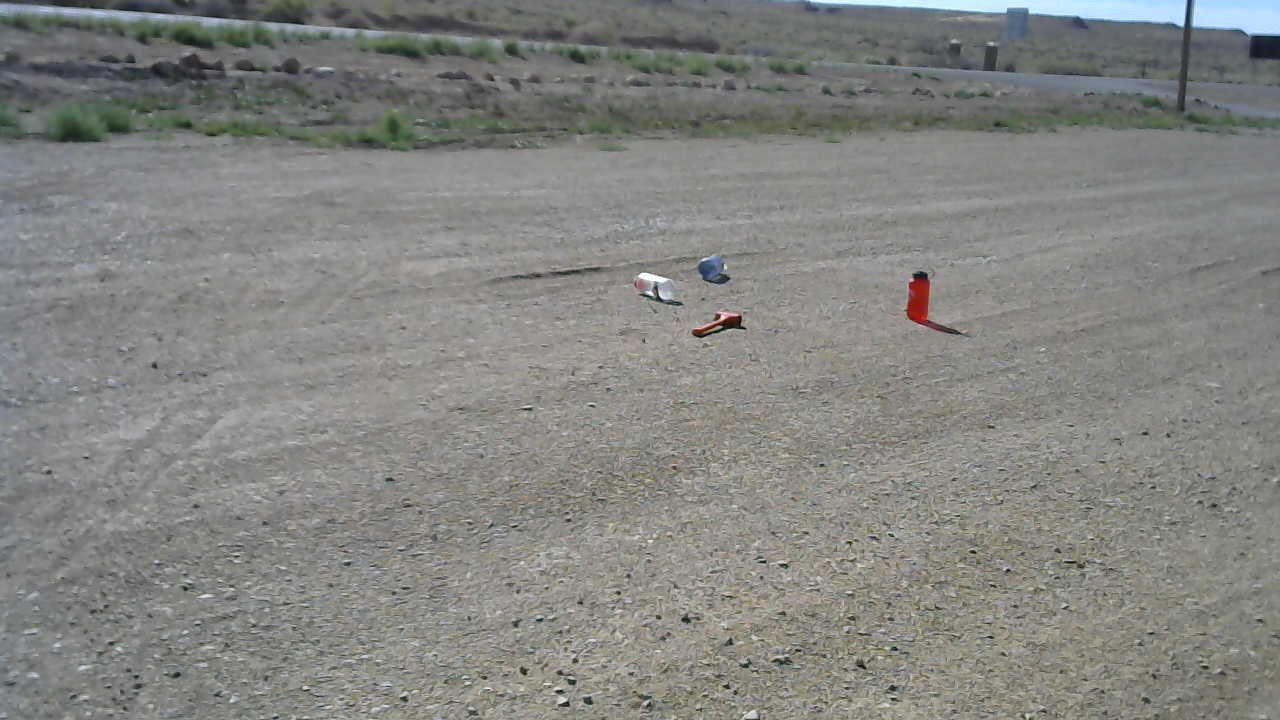bottle: (903, 266, 936, 322), (629, 269, 678, 306), (691, 310, 746, 338), (696, 256, 727, 285)
